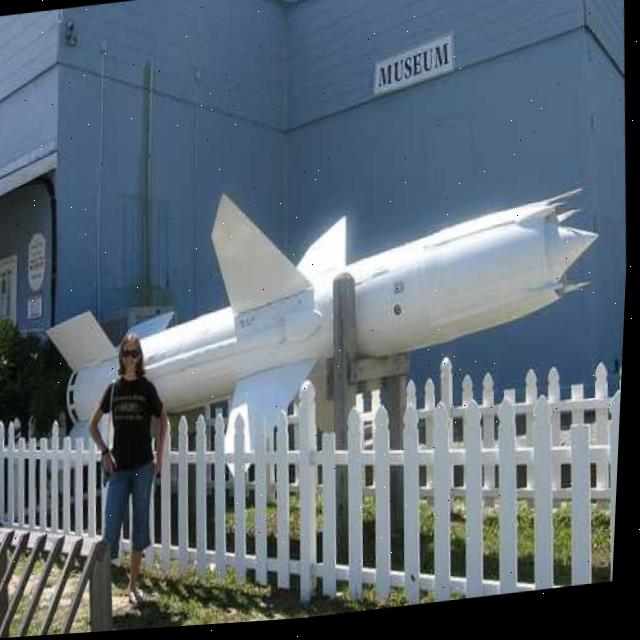missile: (30, 152, 609, 461)
